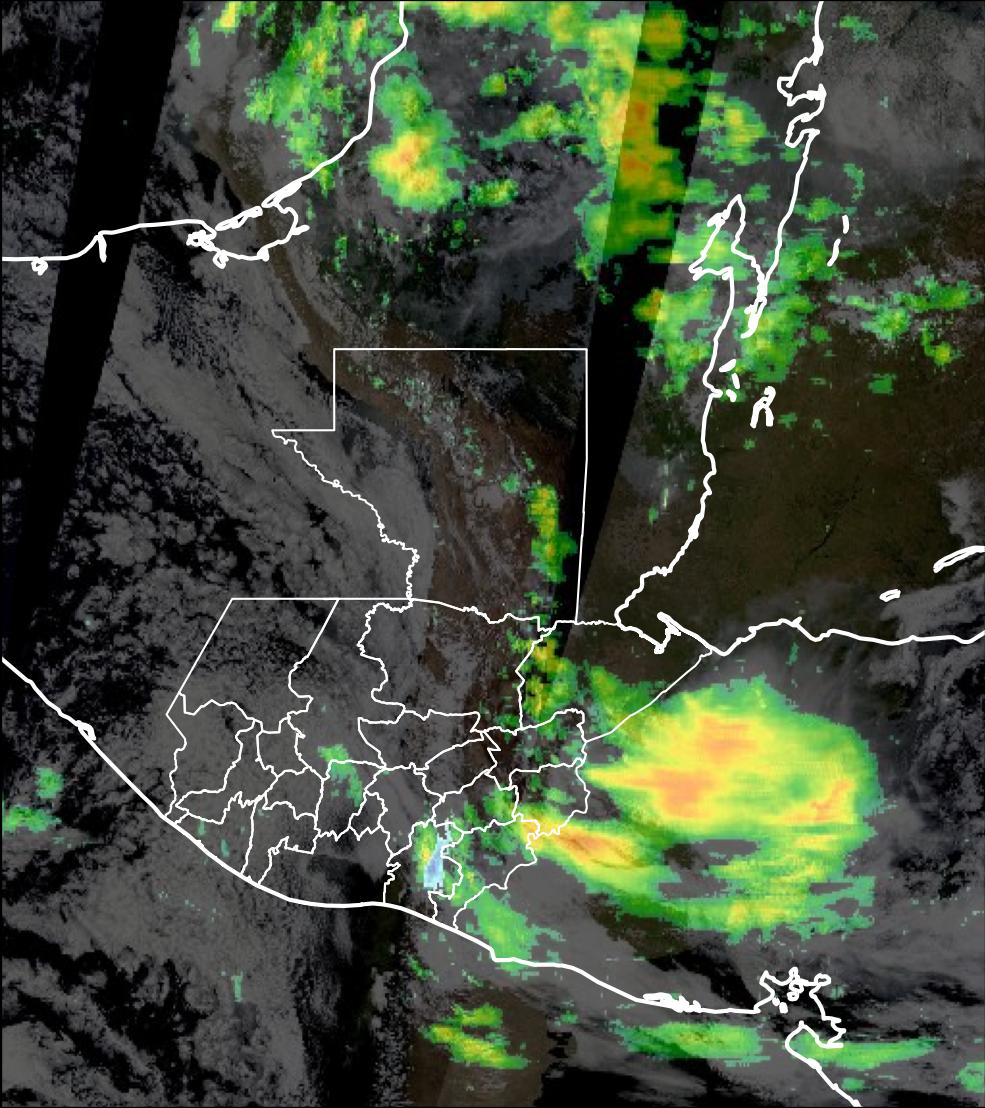precipitacion: (603, 754, 739, 832), (539, 817, 645, 886)
